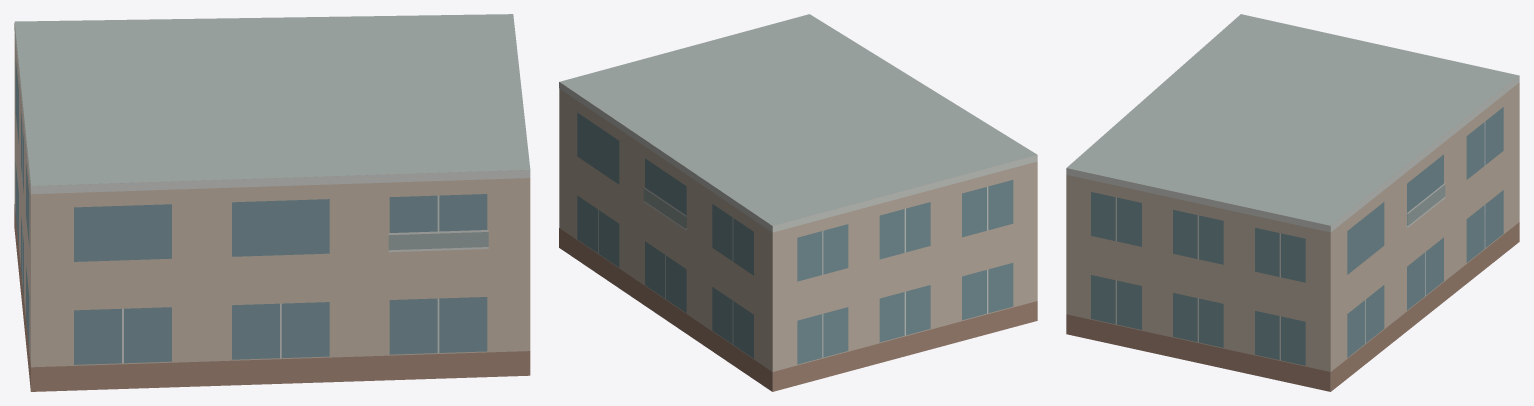
File: survey-upis-32602875.glb
3 views of the same model, side by side, from view 1: azimuth 30°, elevation 25°; view 2: azimuth 150°, elevation 25°; view 3: azimuth 270°, elevation 25° (orthographic). The views are drawn at different scales.
Visible parts, largest first — view 1: survey-upis-32602875.tmp; view 2: survey-upis-32602875.tmp; view 3: survey-upis-32602875.tmp.
Boxes of the visible parts, bbox=[...] form: survey-upis-32602875.tmp: bbox=[14, 14, 530, 391]; survey-upis-32602875.tmp: bbox=[559, 14, 1037, 391]; survey-upis-32602875.tmp: bbox=[1066, 14, 1519, 391].
Bounding box in the file's own units: 16.69 × 6.1 × 15.1.
